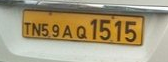1: (113, 20, 123, 42), (90, 18, 98, 40)
5: (124, 20, 138, 42), (99, 18, 111, 40), (41, 23, 50, 37)
9: (51, 24, 60, 37)
A: (62, 25, 73, 38)
N: (31, 21, 41, 36)
Q: (76, 25, 88, 39)
T: (23, 21, 32, 36)
